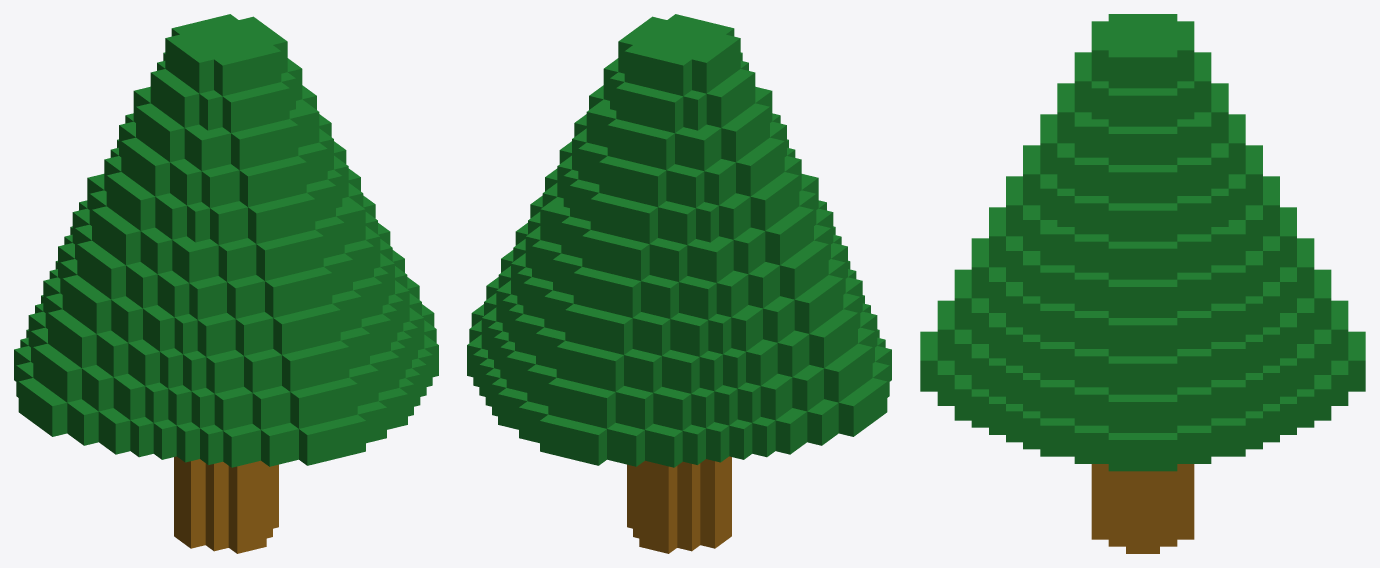
The model's file is Dennenboom.obj.
The picture shows the model from 3 angles, left to right: view 1: azimuth 30°, elevation 25°; view 2: azimuth 150°, elevation 25°; view 3: azimuth 270°, elevation 25°; orthographic projection.
Bounding box in the file's own units: 2.6 × 3.2 × 2.6.
1 material, 1 textured.
